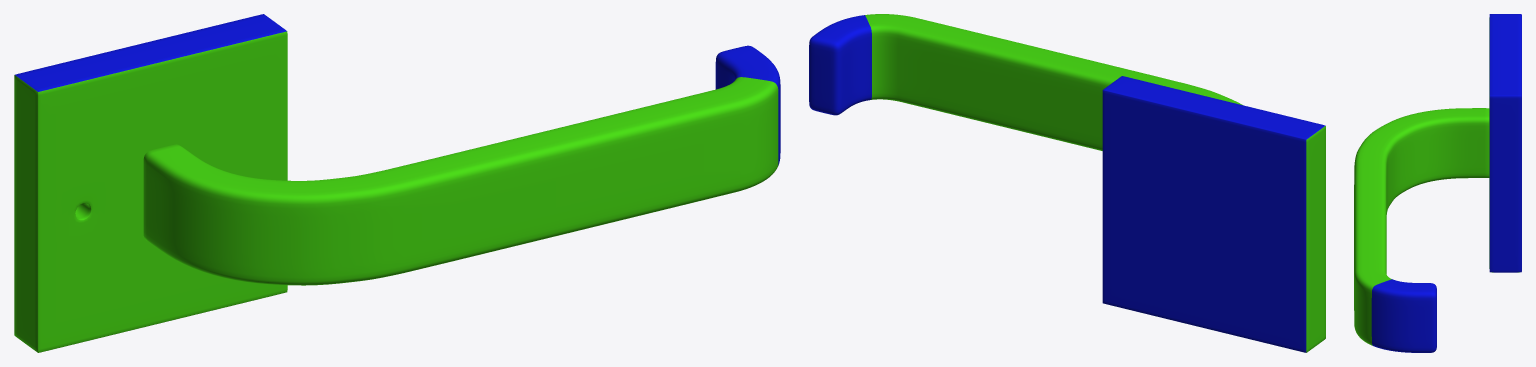
Rendered from Door_Handle_High.fbx.
The picture shows the model from 3 angles, left to right: view 1: azimuth 30°, elevation 25°; view 2: azimuth 150°, elevation 25°; view 3: azimuth 270°, elevation 25°; orthographic projection. The views are drawn at different scales.
Parts seen in each view (by area): view 1: Door_Handle_High; view 2: Door_Handle_High; view 3: Door_Handle_High.
Boxes of the visible parts, x1,y1,x2,y2 form: Door_Handle_High: (14, 14, 780, 352); Door_Handle_High: (809, 14, 1325, 352); Door_Handle_High: (1354, 14, 1521, 352).
Size of the model in its own units: 16.2 by 6 by 5.17.
